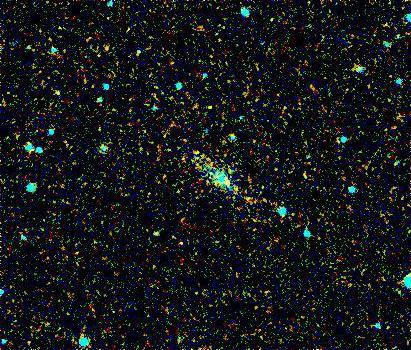star: (182, 140, 212, 170)
